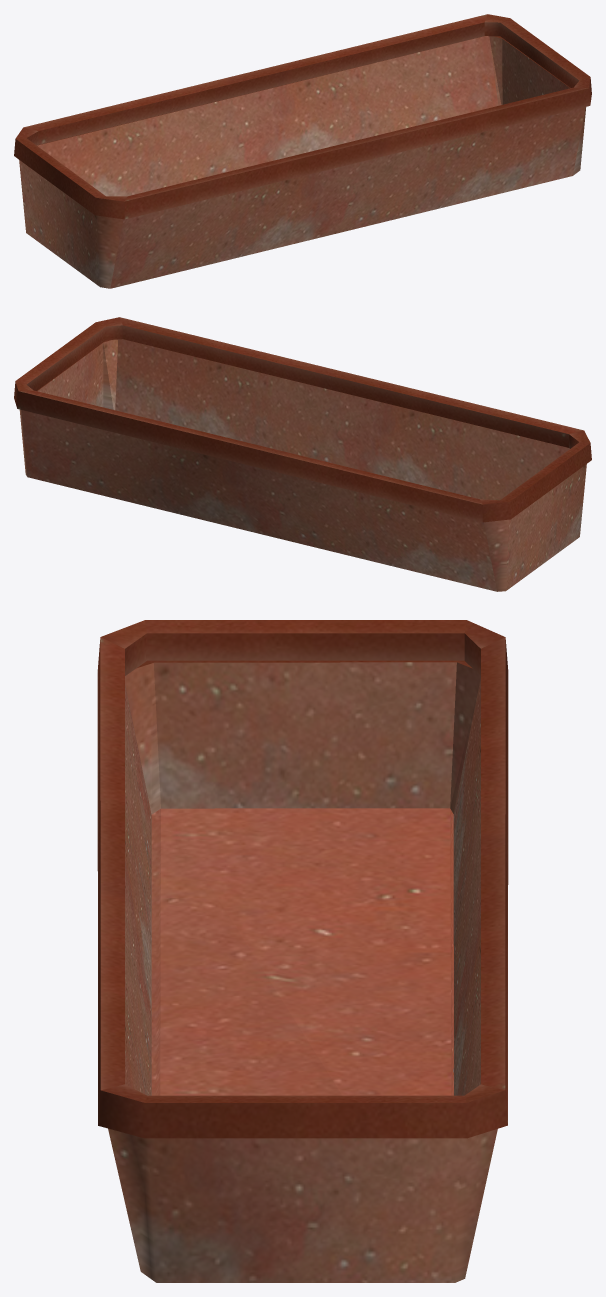
The model's file is flowerpot2b.fbx.
The picture shows the model from 3 angles, top to bottom: view 1: azimuth 30°, elevation 25°; view 2: azimuth 150°, elevation 25°; view 3: azimuth 270°, elevation 25°; orthographic projection. The views are drawn at different scales.
Visible parts, largest first — view 1: flowerpot2b; view 2: flowerpot2b; view 3: flowerpot2b.
Boxes of the visible parts, bbox=[...] form: flowerpot2b: bbox=[14, 14, 591, 288]; flowerpot2b: bbox=[14, 317, 591, 591]; flowerpot2b: bbox=[97, 620, 508, 1282].
Size of the model in its own units: 0.5768 by 0.1039 by 0.2063.
